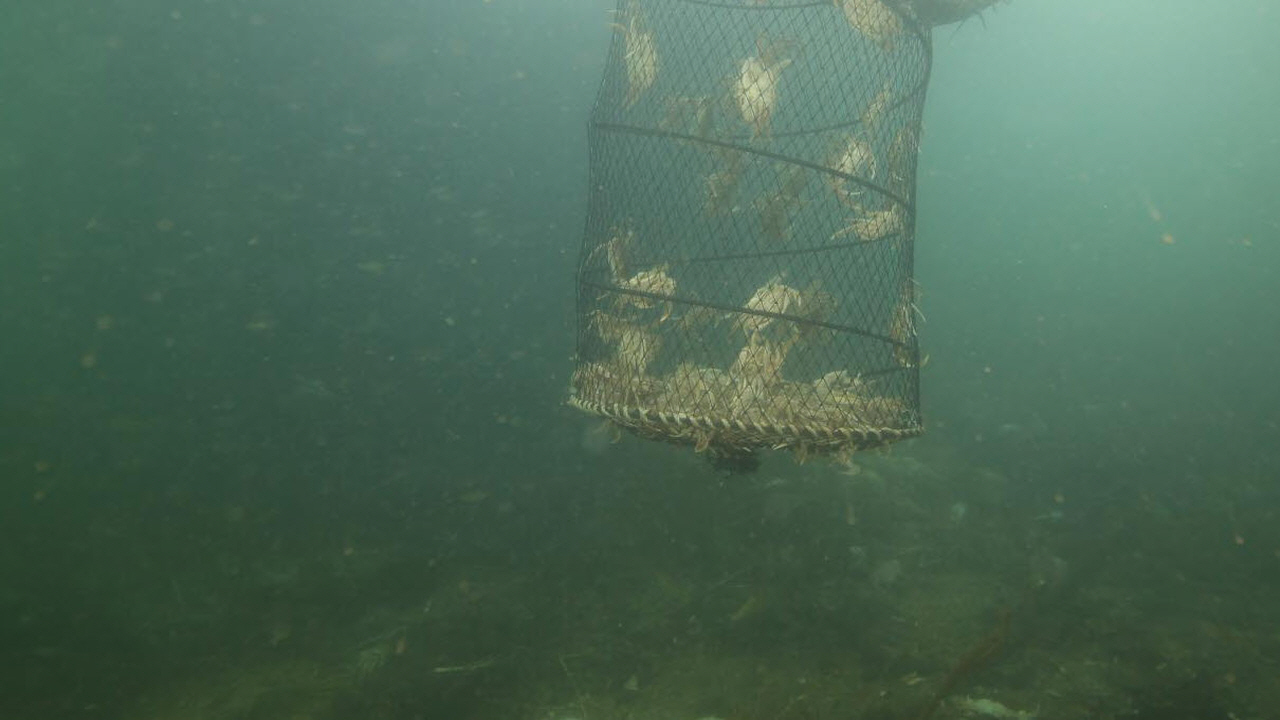spring fish trap: (565, 0, 933, 469)
